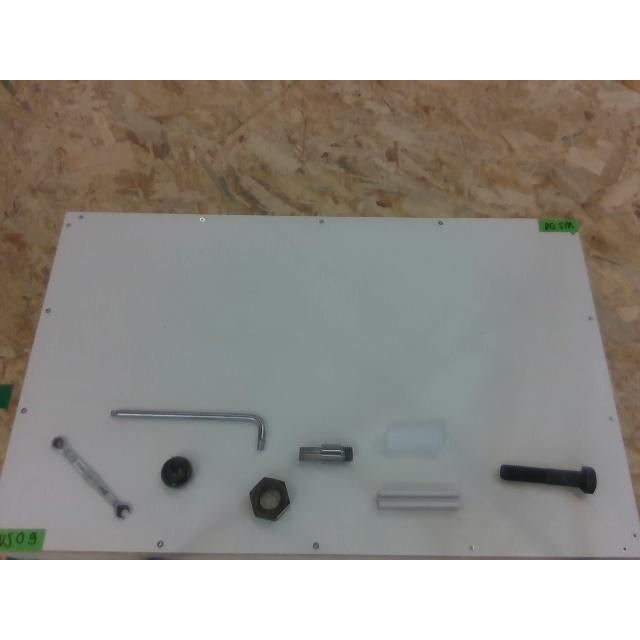AllenKey: (110, 409, 266, 451)
Axis2: (298, 443, 354, 463)
Bearing2: (161, 457, 193, 488)
F20_20_G: (376, 486, 460, 510)
M20_100: (499, 463, 596, 492)
M30: (250, 477, 290, 521)
Spacer: (383, 420, 445, 456)
Wrench: (51, 435, 131, 519)
